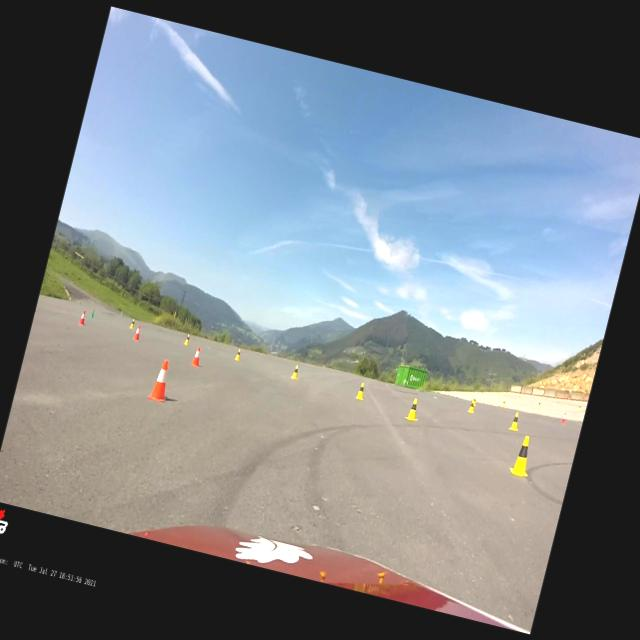orange_cone: (146, 356, 176, 404), (190, 346, 202, 366), (132, 324, 142, 340), (78, 310, 86, 326), (561, 412, 567, 424)
unknown_cone: (89, 308, 95, 318)
yellow_cone: (508, 433, 536, 478), (404, 396, 422, 422), (508, 411, 522, 432), (354, 382, 366, 399), (290, 364, 301, 379), (467, 398, 476, 412), (234, 348, 242, 360), (183, 334, 190, 346), (128, 317, 135, 329), (472, 396, 478, 406), (501, 399, 506, 408), (536, 400, 540, 408), (578, 404, 580, 411)
